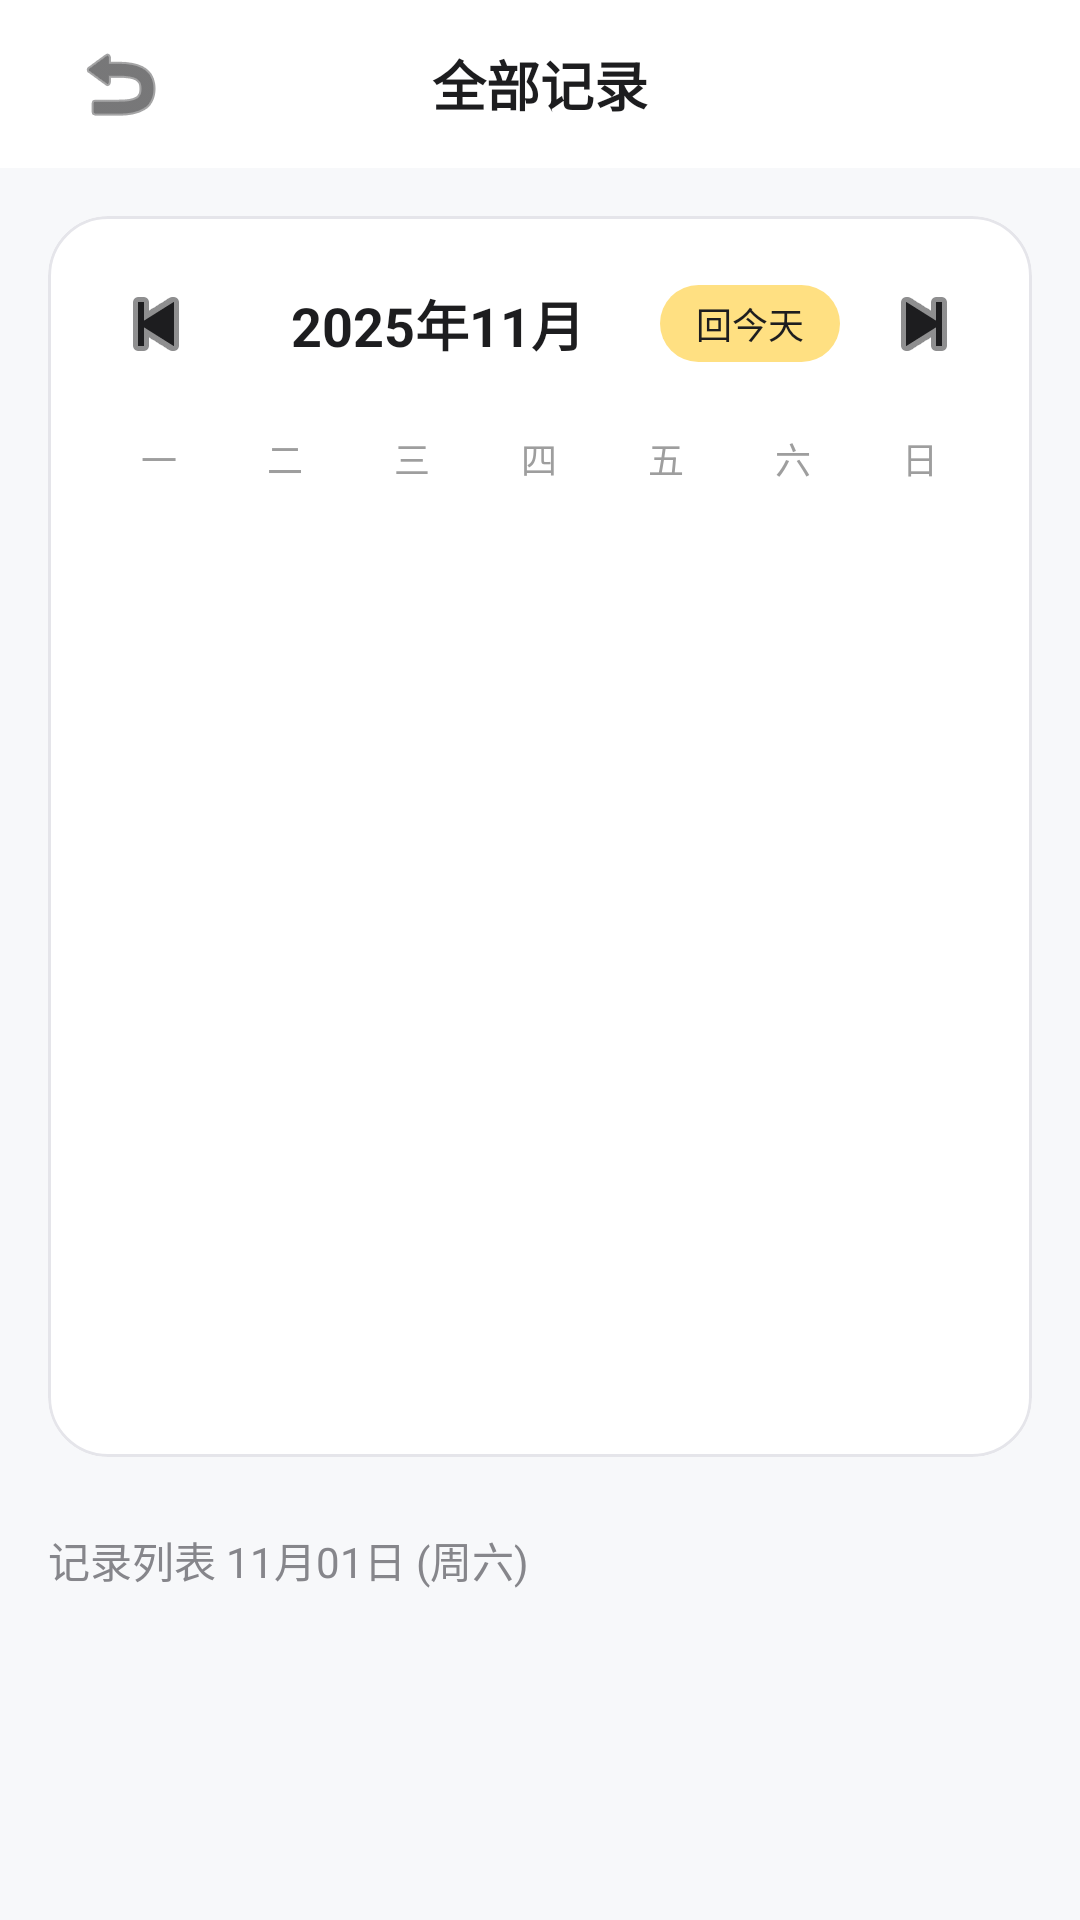

Point at icon controls on the screen. Image size 1080×1920, points as [x,y].
next: [924,324]
previous: [156,324]
revert: [121,84]
